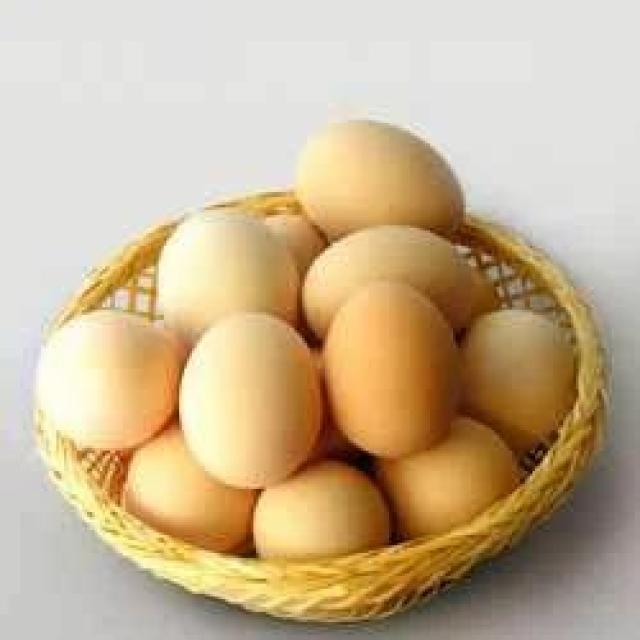Egg: (38, 121, 576, 558), (179, 312, 322, 488), (325, 282, 456, 458), (36, 310, 186, 449), (158, 212, 298, 342)
